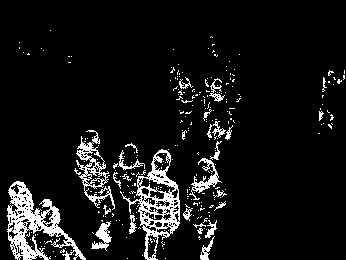person: (74, 125, 117, 251), (134, 147, 181, 260), (182, 157, 227, 260), (33, 196, 86, 260), (201, 74, 236, 164), (112, 142, 145, 231), (7, 179, 42, 260), (174, 72, 198, 140)
